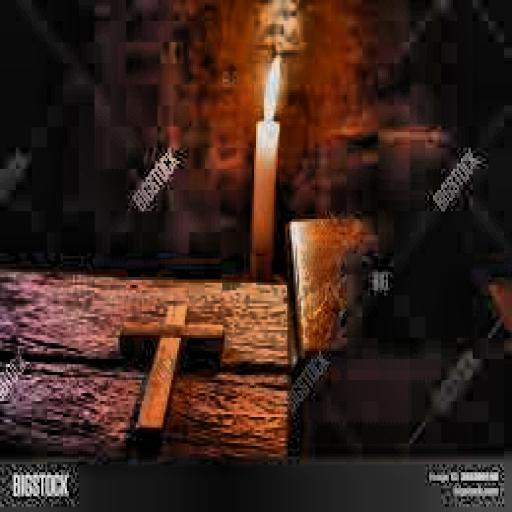fire: (260, 50, 282, 122)
